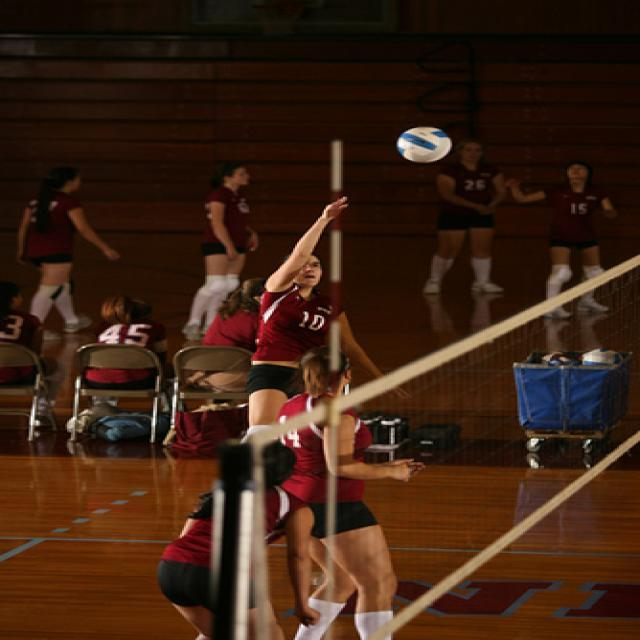volleyball: (396, 126, 451, 162)
